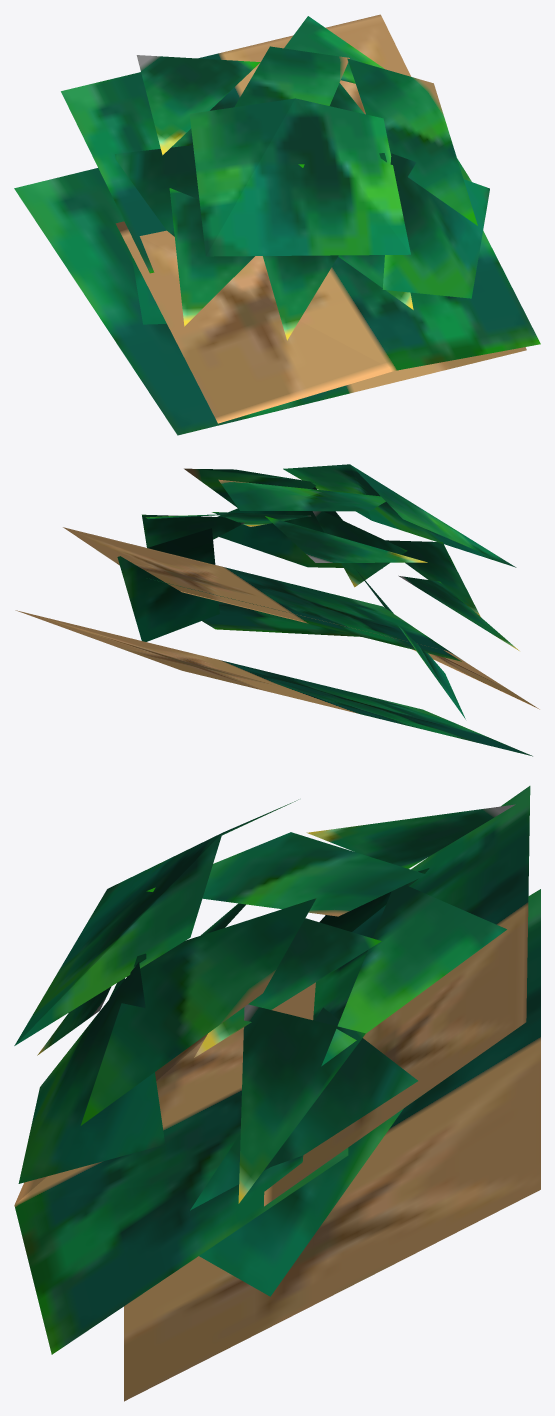
File: fg_bushC_2_bl.dae
The picture shows the model from 3 angles, top to bottom: view 1: azimuth 30°, elevation 25°; view 2: azimuth 150°, elevation 25°; view 3: azimuth 270°, elevation 25°; orthographic projection. The views are drawn at different scales.
Parts seen in each view (by area): view 1: fg_bushC_2_bl; view 2: fg_bushC_2_bl; view 3: fg_bushC_2_bl.
Part boxes in pixels (x1,y1,x2,y2): fg_bushC_2_bl: (14, 14, 540, 435); fg_bushC_2_bl: (15, 464, 539, 756); fg_bushC_2_bl: (14, 786, 540, 1401).
Bounding box in the file's own units: 47.83 × 31.21 × 35.4.
Materials: 1 (1 with a texture image).
